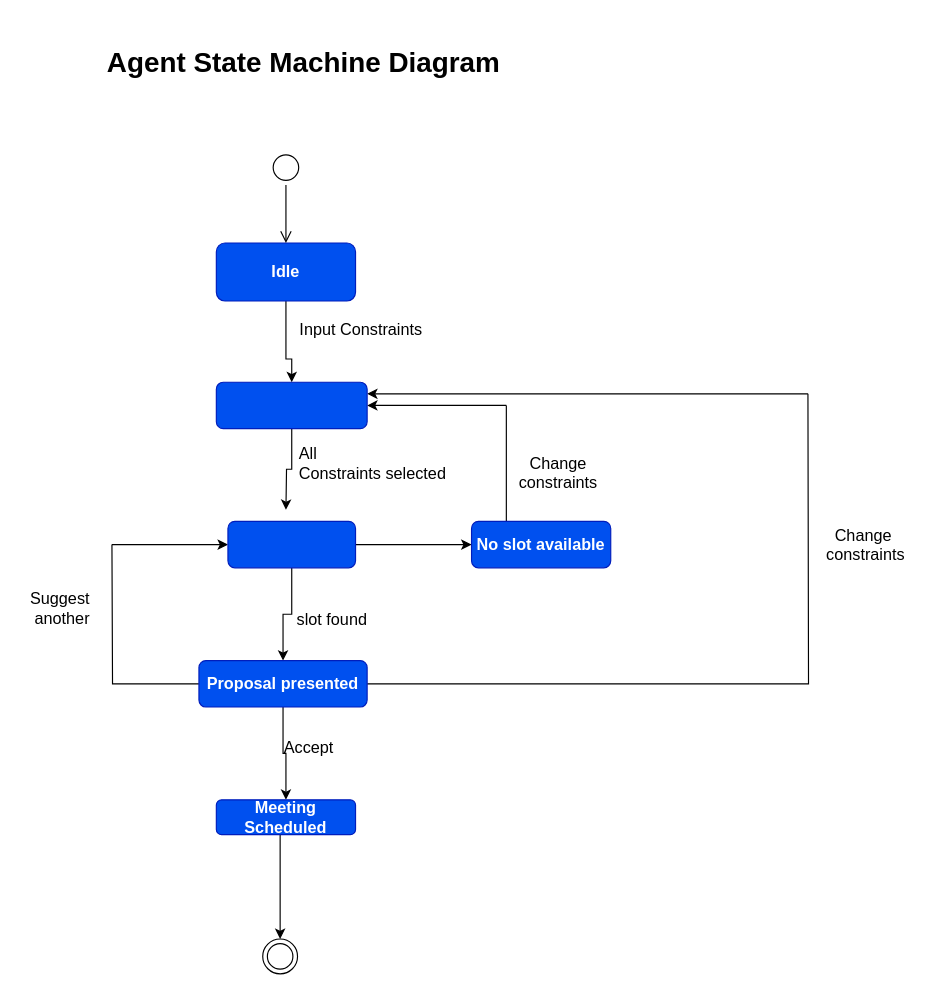
Some shapes in this 937 by 994 pixel diagram are drawn without their labels. Here are the shapes that lost their labels. From the top down, the centre of each, then its label:
the point at 291,405: collecting constraints
the point at 291,544: Evaluating slots
